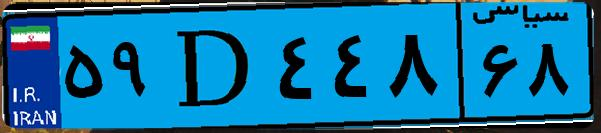4: (270, 28, 330, 110), (330, 28, 385, 110)
5: (57, 26, 110, 100)
6: (475, 38, 525, 113)
8: (385, 28, 445, 110), (525, 38, 570, 115)
9: (110, 28, 158, 98)
D: (158, 12, 270, 120)
